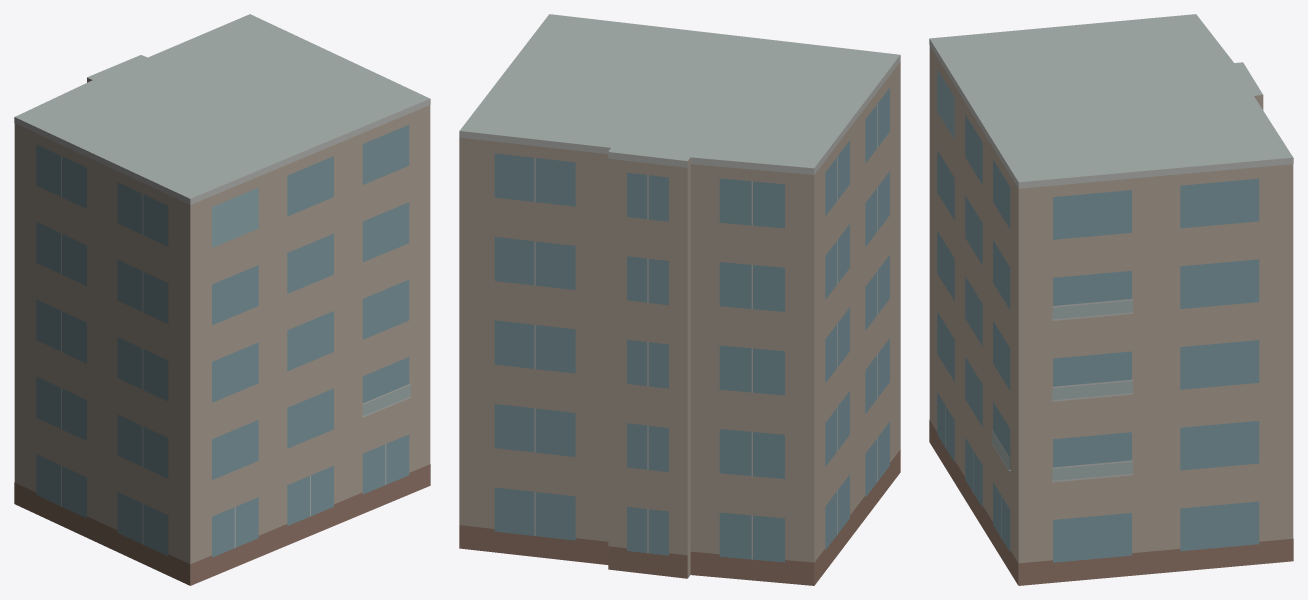
File: survey-upis-32990936.glb
3 renders of one model, left to right at view 1: azimuth 30°, elevation 25°; view 2: azimuth 150°, elevation 25°; view 3: azimuth 270°, elevation 25°, orthographic. The views are drawn at different scales.
Visible parts, largest first — view 1: survey-upis-32990936.tmp; view 2: survey-upis-32990936.tmp; view 3: survey-upis-32990936.tmp.
Part boxes in pixels (x1,y1,x2,y2): survey-upis-32990936.tmp: (14, 14, 430, 585); survey-upis-32990936.tmp: (459, 14, 900, 585); survey-upis-32990936.tmp: (929, 14, 1293, 585).
Size of the model in its own units: 13.65 by 15.25 by 12.48.
